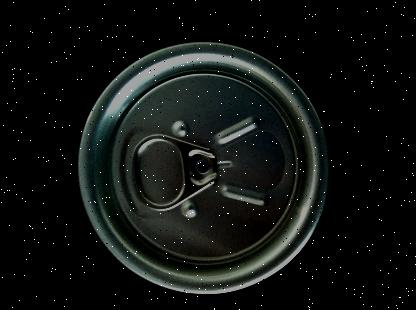Can: (78, 41, 330, 293)
